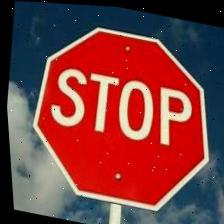Stop: (15, 14, 224, 220)
